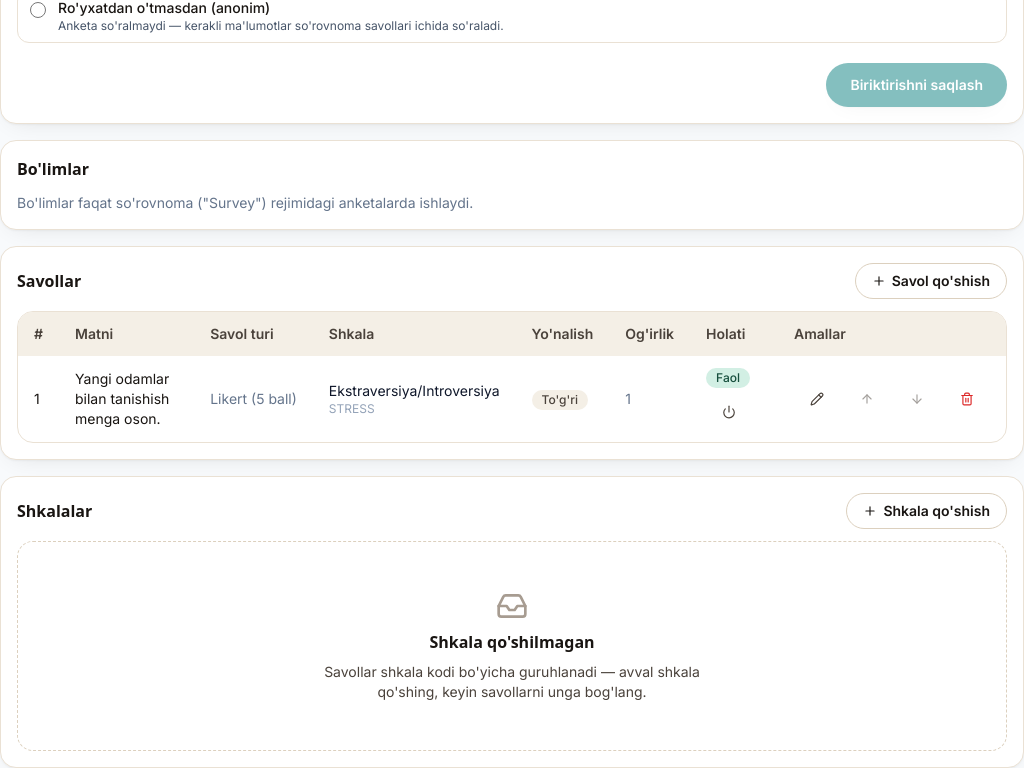
Test: CatalogTestDetailPage — `Custom` test › `Custom` savolda shkala maydoni tahrirlanadi
(page scrolled)
Click the button named "MB-Q01 savolini tahrirlash": (817, 399) [794, 381, 840, 417]
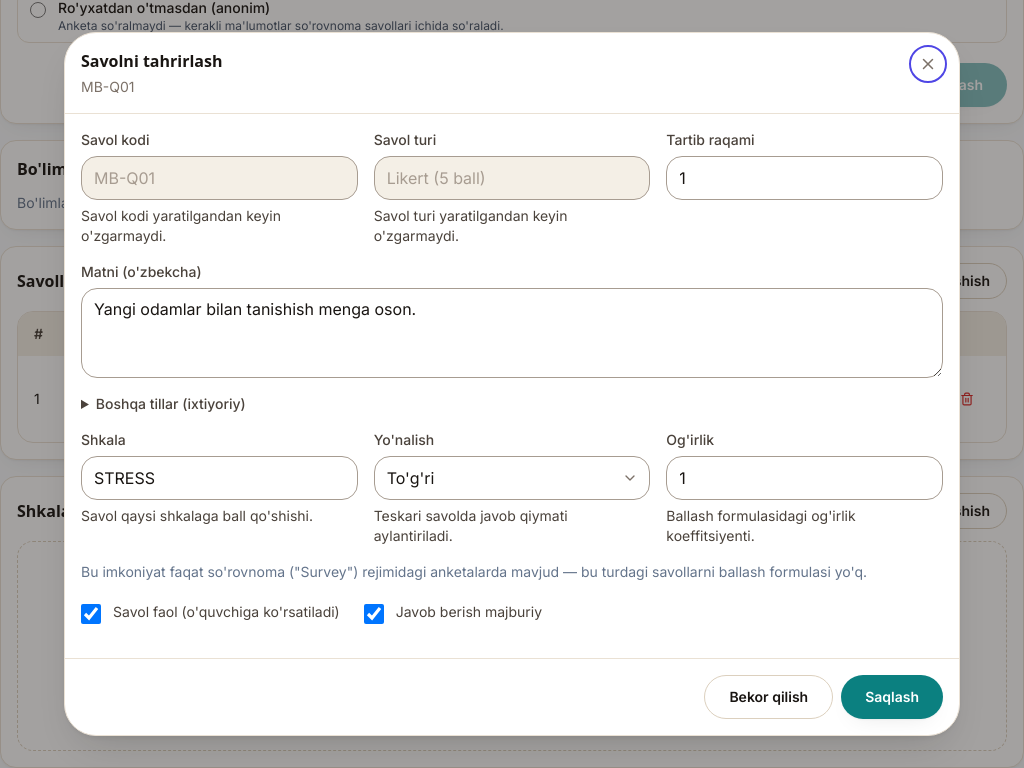
Expected: the field labelled "Shkala" is enabled, [81, 456, 358, 500]
Expected: the number field labelled "Og'irlik" is enabled, [666, 456, 943, 500]
